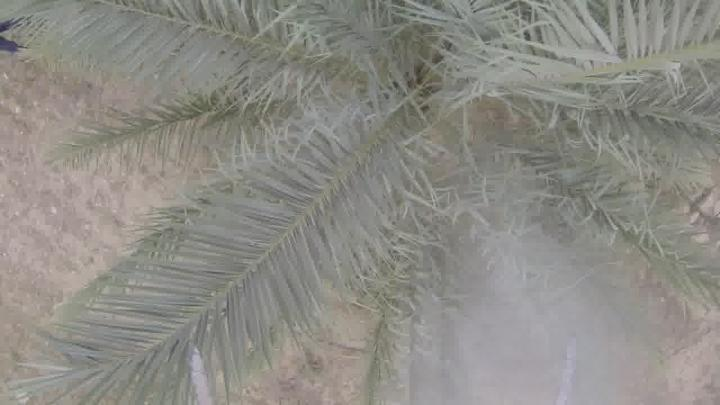Date-Palm-Crown: (155, 0, 675, 318)
